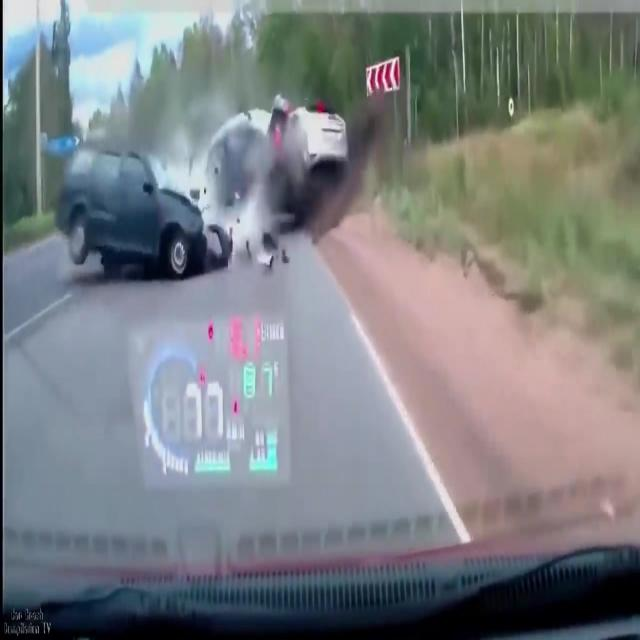accident: (72, 81, 353, 291)
